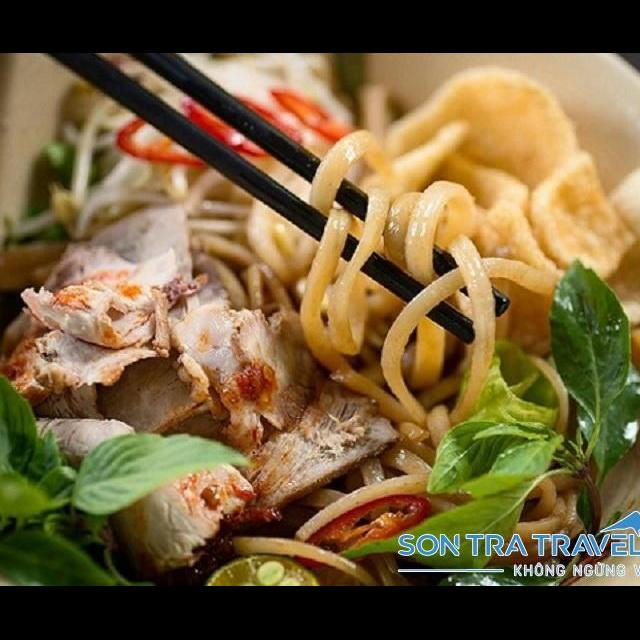banh da: (373, 62, 589, 238), (520, 144, 640, 290), (575, 155, 640, 328)
mi: (239, 124, 559, 454), (225, 394, 508, 564)
mi quang: (0, 87, 640, 586)
thit heo: (0, 197, 197, 401), (20, 412, 258, 576), (209, 370, 405, 534), (19, 329, 232, 476), (171, 292, 321, 458)
